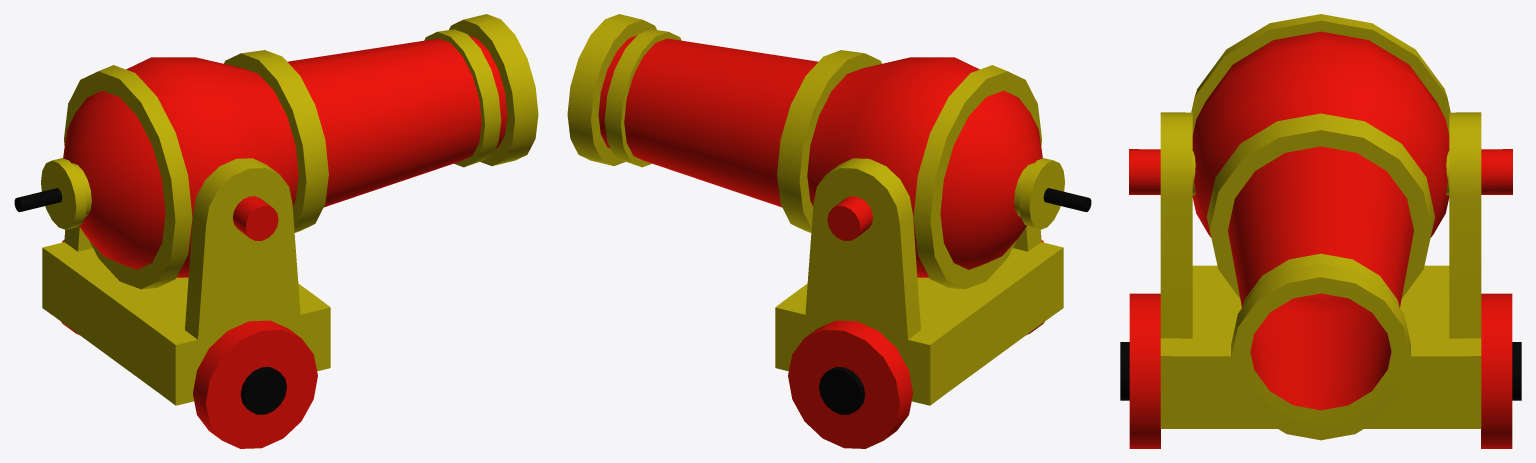
File: Cañon.fbx
3 views of the same model, side by side, from view 1: azimuth 30°, elevation 25°; view 2: azimuth 150°, elevation 25°; view 3: azimuth 270°, elevation 25° (orthographic). The views are drawn at different scales.
Parts seen in each view (by area): view 1: Cylinder, Cylinder.001, Cylinder.002, Cylinder.007, Cylinder.003, Cylinder.010, Cylinder.005, Cylinder.004; view 2: Cylinder, Cylinder.001, Cylinder.002, Cylinder.009, Cylinder.003, Cylinder.008, Cylinder.006, Cylinder.004; view 3: Cylinder, Cylinder.001, Cylinder.002, Cylinder.007, Cylinder.009, Cylinder.005, Cylinder.006, Cylinder.008, Cylinder.010.
Part boxes in pixels (<box>): Cylinder: <box>63,35,507,277</box>; Cylinder.001: <box>42,158,330,405</box>; Cylinder.002: <box>64,14,538,289</box>; Cylinder.007: <box>193,320,317,448</box>; Cylinder.003: <box>41,158,91,229</box>; Cylinder.010: <box>240,367,286,414</box>; Cylinder.005: <box>233,196,278,240</box>; Cylinder.004: <box>14,188,62,212</box>; Cylinder: <box>598,35,1042,277</box>; Cylinder.001: <box>775,158,1063,405</box>; Cylinder.002: <box>567,14,1041,289</box>; Cylinder.009: <box>788,320,912,448</box>; Cylinder.003: <box>1014,158,1064,229</box>; Cylinder.008: <box>819,367,865,414</box>; Cylinder.006: <box>827,196,872,240</box>; Cylinder.004: <box>1043,188,1091,212</box>; Cylinder: <box>1192,31,1449,410</box>; Cylinder.001: <box>1160,112,1481,428</box>; Cylinder.002: <box>1191,14,1450,440</box>; Cylinder.007: <box>1129,293,1160,448</box>; Cylinder.009: <box>1481,293,1512,448</box>; Cylinder.005: <box>1129,149,1160,194</box>; Cylinder.006: <box>1481,149,1512,194</box>; Cylinder.008: <box>1512,342,1521,400</box>; Cylinder.010: <box>1120,342,1129,400</box>.
Size of the model in its own units: 495 by 322 by 297.
